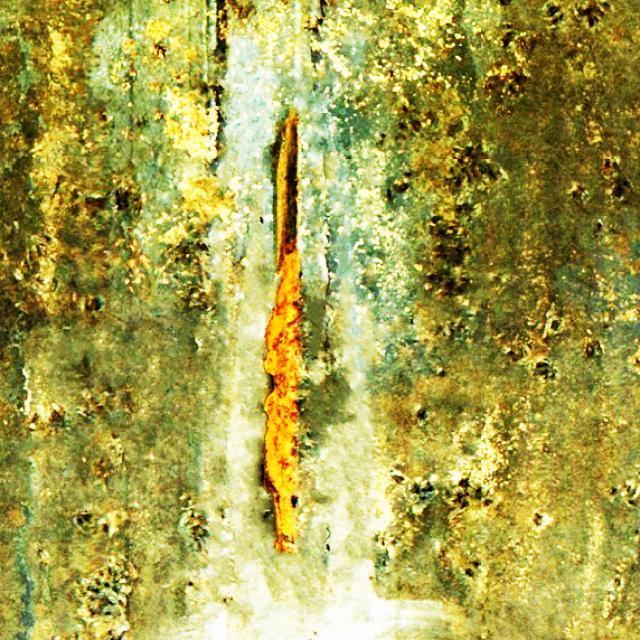Corrosion: (264, 118, 301, 555)
